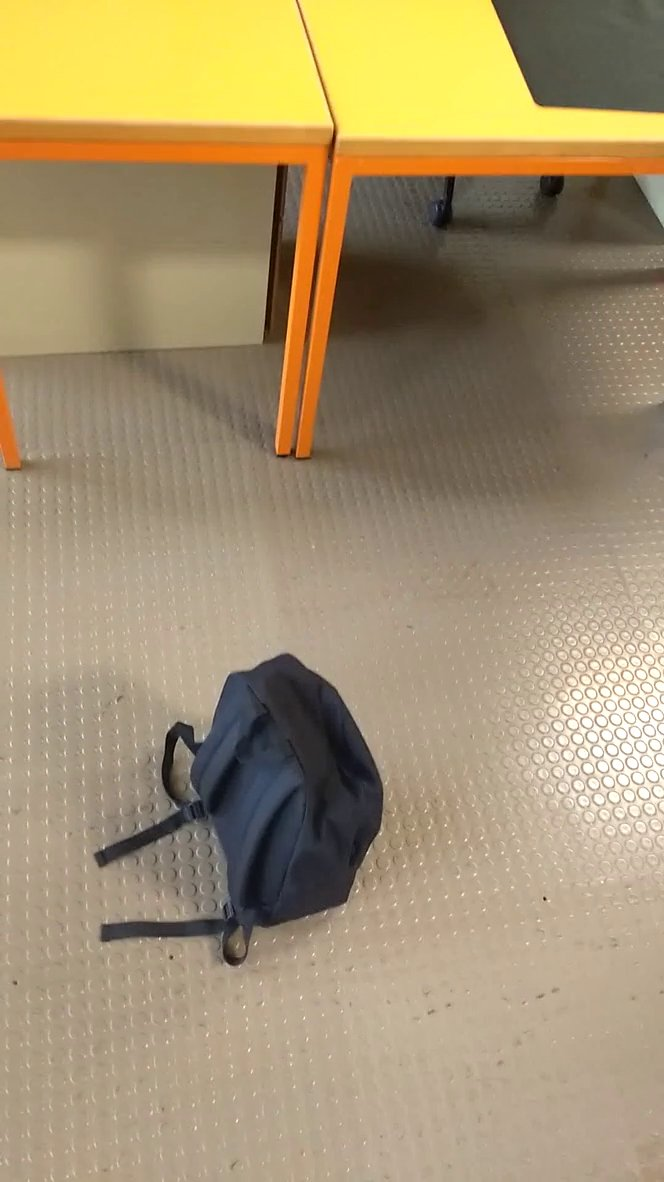bag: (89, 634, 391, 978)
